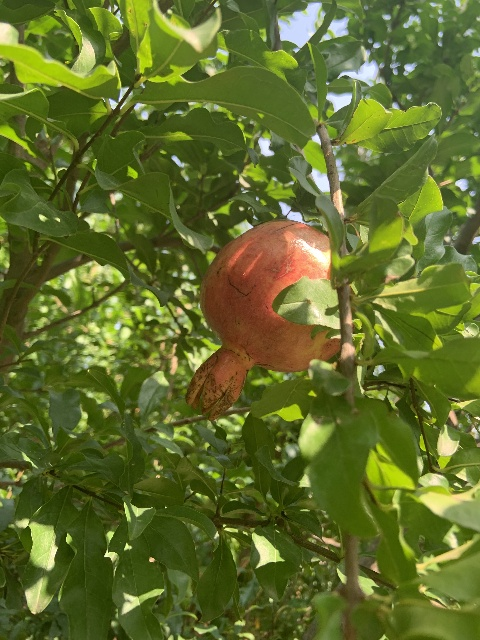ripe: (185, 219, 341, 420)
